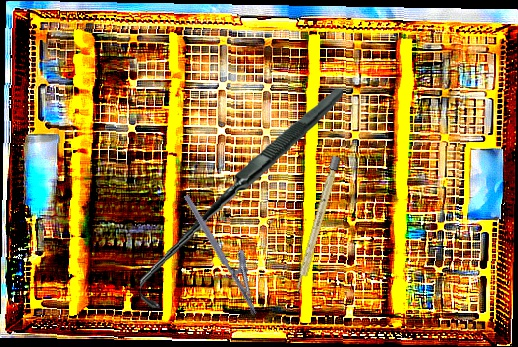Hook Surgical: (127, 88, 357, 310)
Needle Holder: (182, 184, 275, 316)
Scalpel Handle: (293, 155, 342, 294)
